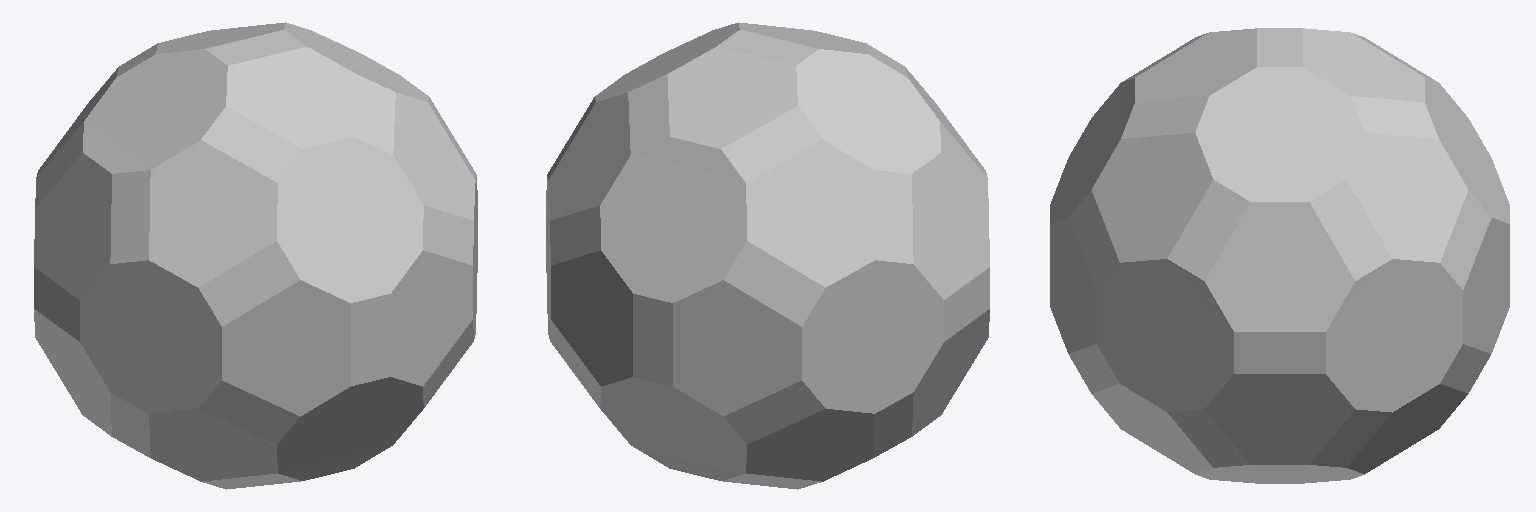
The model's file is dod3.obj.
The picture shows the model from 3 angles: view 1: azimuth 30°, elevation 25°; view 2: azimuth 150°, elevation 25°; view 3: azimuth 270°, elevation 25°; orthographic projection.
Visible parts, largest first — view 1: dodeca.001; view 2: dodeca.001; view 3: dodeca.001.
Part boxes in pixels (left/top/right/bottom): dodeca.001: left=34, top=22, right=477, bottom=489; dodeca.001: left=546, top=22, right=989, bottom=489; dodeca.001: left=1050, top=28, right=1509, bottom=483.
Bounding box in the file's own units: 1.95 × 1.95 × 1.95.